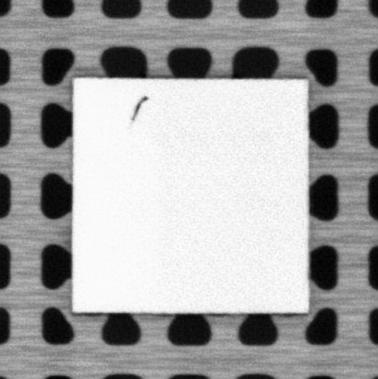DIE_INK: (130, 95, 150, 123)
